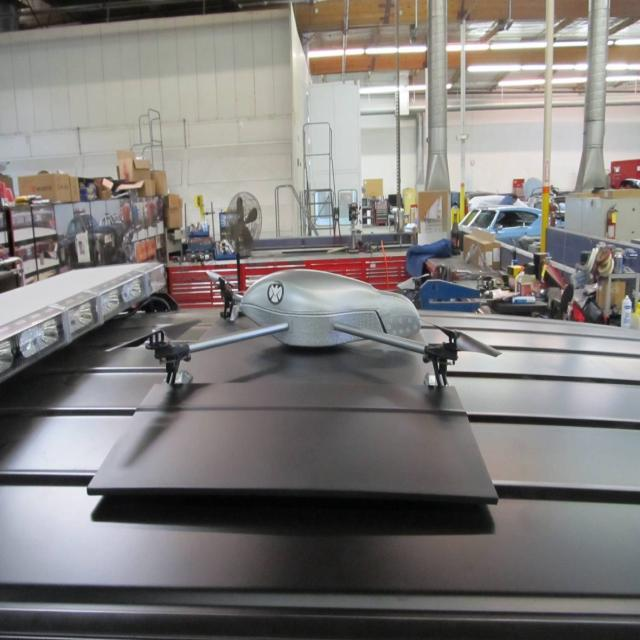drone: (134, 244, 506, 411)
